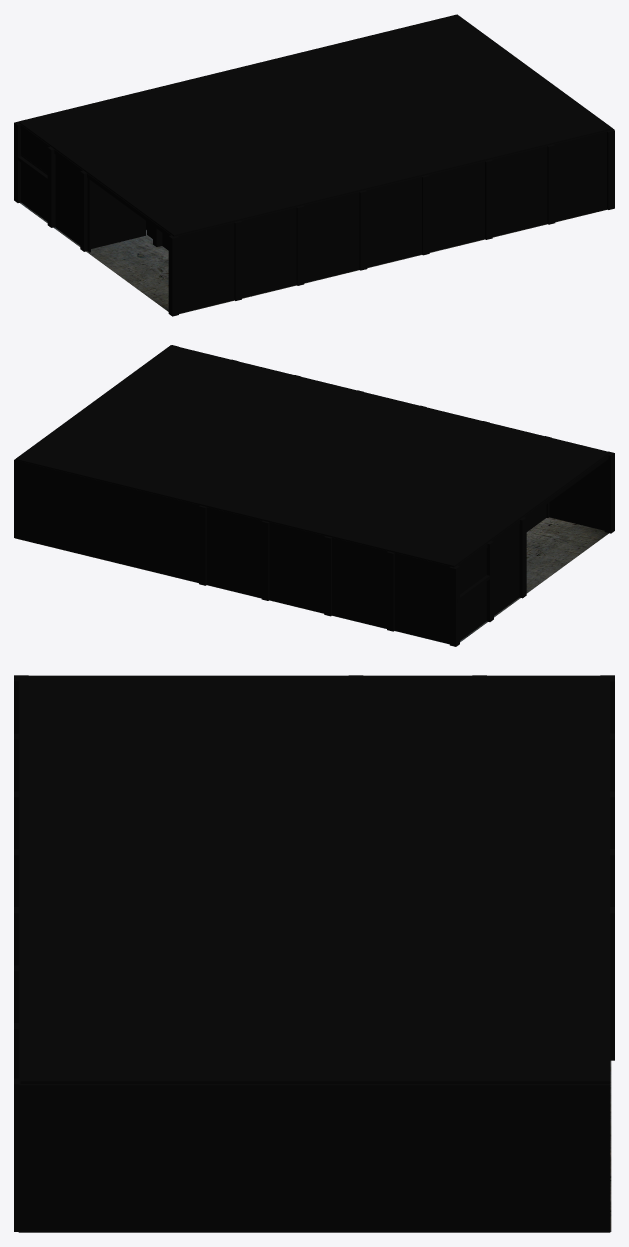
Rendered from 80s_warehouse.glb.
3 views of the same model, one above another, from view 1: azimuth 30°, elevation 25°; view 2: azimuth 150°, elevation 25°; view 3: azimuth 270°, elevation 25° (orthographic). The views are drawn at different scales.
Visible parts, largest first — view 1: Rectangle043, Line001, Box029, piso, Box030, Box072, Box073, Line014; view 2: Rectangle043, Line001, Box029, piso, Box072, Box073, Line014; view 3: Rectangle043, Line001, Box029.
Part boxes in pixels (left/top/right/bottom): Rectangle043: left=18, top=14, right=612, bottom=236; Line001: left=175, top=129, right=614, bottom=313; Box029: left=14, top=121, right=614, bottom=316; piso: left=20, top=202, right=606, bottom=313; Box030: left=91, top=181, right=145, bottom=248; Box072: left=55, top=155, right=90, bottom=252; Box073: left=21, top=129, right=47, bottom=221; Line014: left=18, top=123, right=173, bottom=236; Rectangle043: left=15, top=345, right=609, bottom=567; Line001: left=14, top=459, right=604, bottom=643; Box029: left=172, top=345, right=614, bottom=646; piso: left=15, top=517, right=608, bottom=644; Box072: left=494, top=525, right=519, bottom=615; Box073: left=460, top=548, right=486, bottom=640; Line014: left=455, top=453, right=609, bottom=567; Rectangle043: left=20, top=675, right=609, bottom=1083; Line001: left=18, top=678, right=610, bottom=1232; Box029: left=14, top=675, right=614, bottom=1231.
Size of the model in its own units: 33.39 by 5.72 by 20.69.
22 materials, 11 textured.
